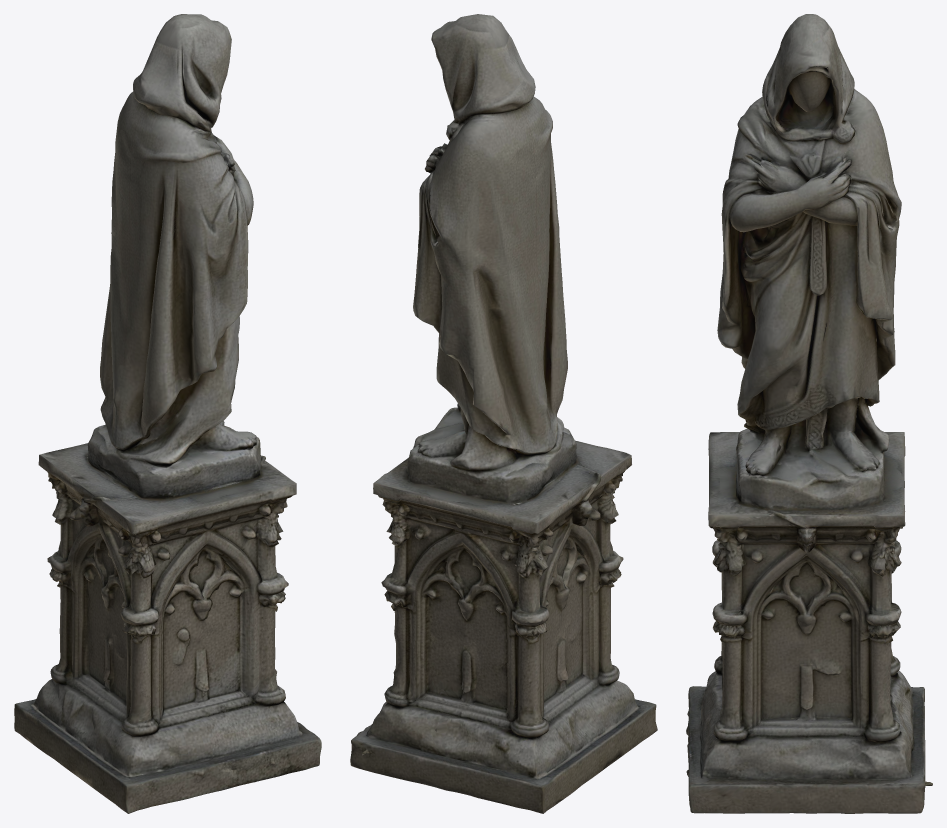
Rendered from funerary-monument.glb.
3 views of the same model, side by side, from view 1: azimuth 30°, elevation 25°; view 2: azimuth 150°, elevation 25°; view 3: azimuth 270°, elevation 25° (orthographic). The views are drawn at different scales.
Parts seen in each view (by area): view 1: tripo_node_601d73ef-c727-4e47-b868-5556133cb847; view 2: tripo_node_601d73ef-c727-4e47-b868-5556133cb847; view 3: tripo_node_601d73ef-c727-4e47-b868-5556133cb847.
Part boxes in pixels (bbox=[...]): tripo_node_601d73ef-c727-4e47-b868-5556133cb847: bbox=[14, 14, 321, 813]; tripo_node_601d73ef-c727-4e47-b868-5556133cb847: bbox=[350, 14, 657, 813]; tripo_node_601d73ef-c727-4e47-b868-5556133cb847: bbox=[686, 14, 932, 813].
Size of the model in its own units: 0.2819 by 1 by 0.2953.
1 material, 1 textured.
